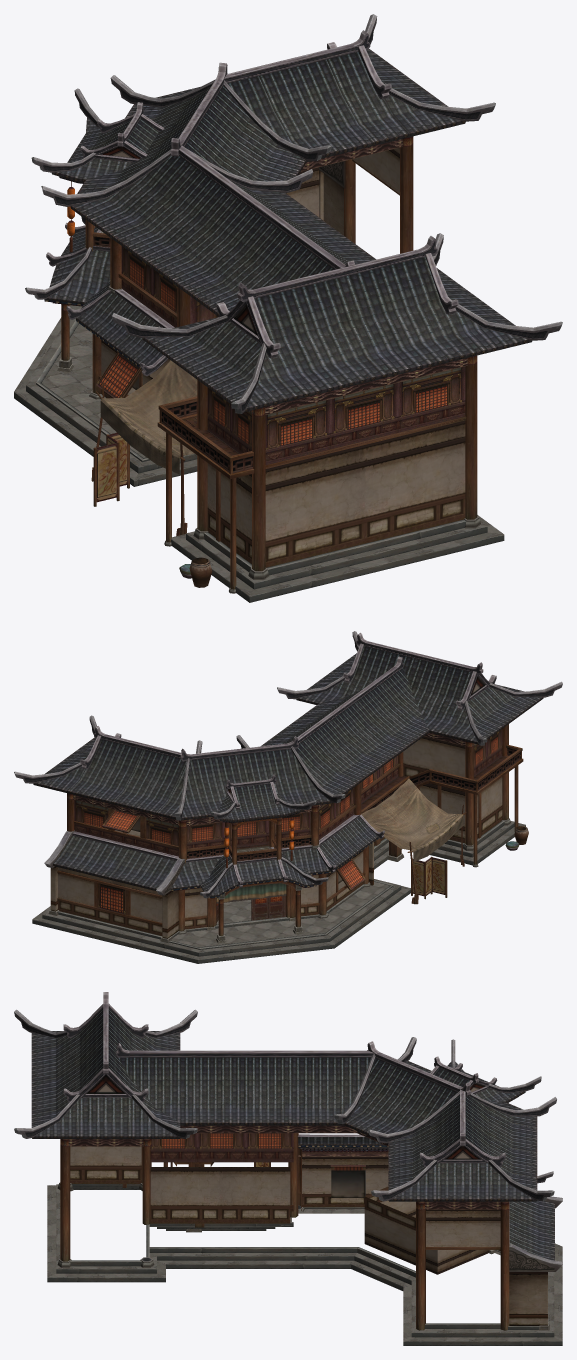
Rendered from zc_long06.FBX.
The picture shows the model from 3 angles, top to bottom: view 1: azimuth 30°, elevation 25°; view 2: azimuth 150°, elevation 25°; view 3: azimuth 270°, elevation 25°; orthographic projection. The views are drawn at different scales.
Visible parts, largest first — view 1: s7_3d_jz_shangpu; view 2: s7_3d_jz_shangpu; view 3: s7_3d_jz_shangpu.
Part boxes in pixels (box(x1,y1,x2,y2)): s7_3d_jz_shangpu: box(14, 14, 562, 602); s7_3d_jz_shangpu: box(14, 631, 562, 963); s7_3d_jz_shangpu: box(14, 992, 562, 1345).
Size of the model in its own units: 783 by 422 by 992.
